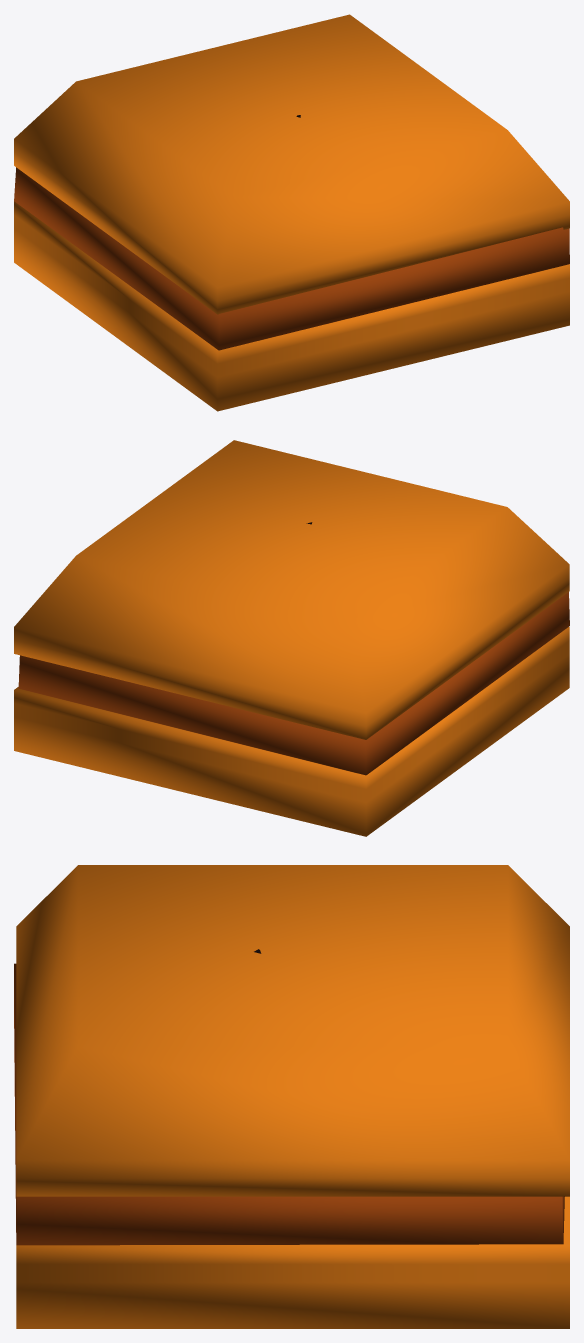
Rendered from hamburger.gltf.
The picture shows the model from 3 angles, top to bottom: view 1: azimuth 30°, elevation 25°; view 2: azimuth 150°, elevation 25°; view 3: azimuth 270°, elevation 25°; orthographic projection. The views are drawn at different scales.
Parts seen in each view (by area): view 1: Cube.002, Cube, Cube.001; view 2: Cube.002, Cube, Cube.001; view 3: Cube.002, Cube, Cube.001.
Boxes of the visible parts, box(x1,y1,x2,y2) form: Cube.002: box(14, 14, 569, 314); Cube: box(14, 201, 569, 411); Cube.001: box(14, 167, 569, 350); Cube.002: box(14, 440, 569, 739); Cube: box(14, 627, 569, 836); Cube.001: box(18, 592, 569, 775); Cube.002: box(16, 865, 569, 1196); Cube: box(16, 1196, 569, 1328); Cube.001: box(14, 963, 564, 1245).
Size of the model in its own units: 6 by 3.09 by 6.02.
